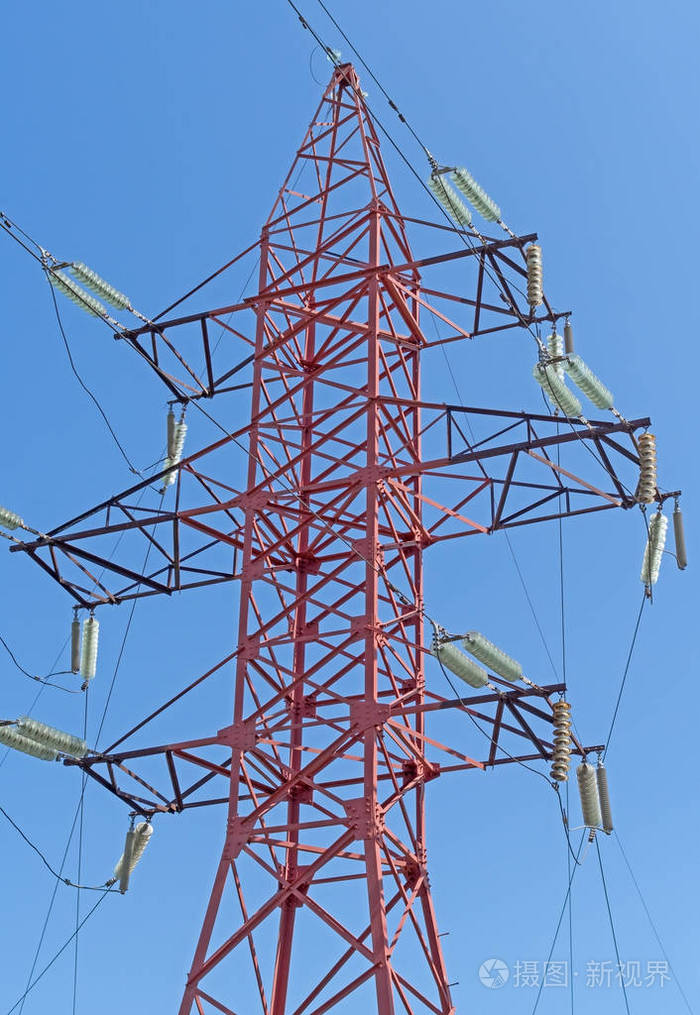insulator: (530, 350, 611, 413), (427, 632, 524, 683), (425, 167, 502, 228), (46, 263, 129, 316), (1, 716, 88, 763), (573, 762, 618, 832), (115, 822, 152, 882), (155, 421, 184, 494), (632, 430, 660, 505), (641, 508, 667, 585), (550, 700, 574, 783), (72, 616, 99, 680), (524, 242, 546, 309)
